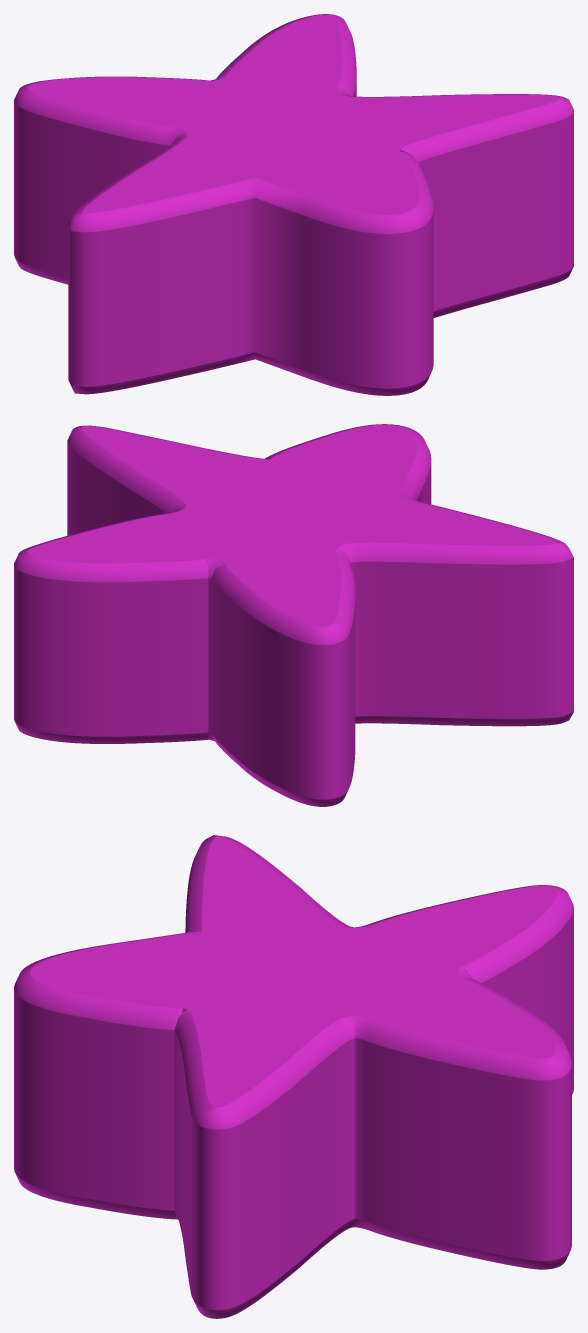
The model's file is Asterisk_CoolFont.fbx.
3 renders of one model, top to bottom at view 1: azimuth 30°, elevation 25°; view 2: azimuth 150°, elevation 25°; view 3: azimuth 270°, elevation 25°, orthographic. The views are drawn at different scales.
Visible parts, largest first — view 1: Asterisk; view 2: Asterisk; view 3: Asterisk.
Boxes of the visible parts, x1,y1,x2,y2 form: Asterisk: [14, 14, 573, 395]; Asterisk: [14, 424, 573, 806]; Asterisk: [14, 835, 573, 1318].
Bounding box in the file's own units: 0.4082 × 0.14 × 0.3373.
